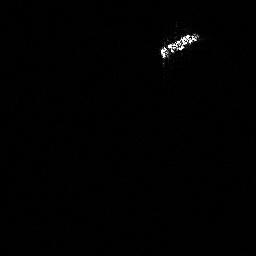ship: (159, 29, 201, 66)
